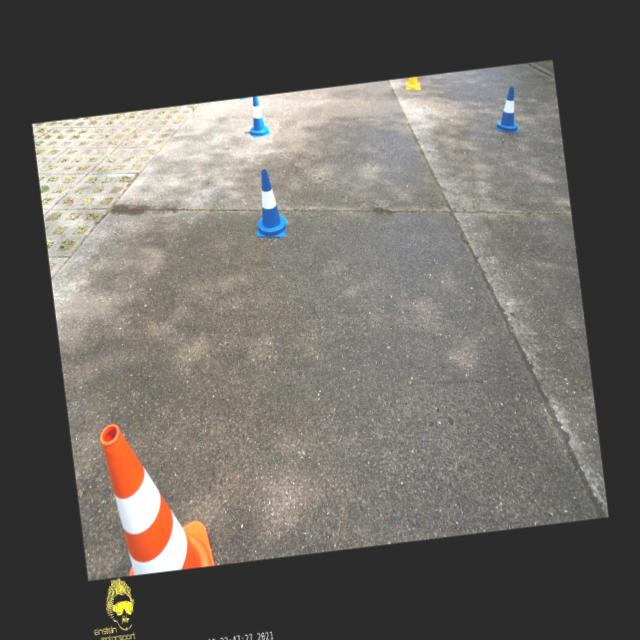blue_cone: (248, 167, 289, 240), (492, 86, 520, 136), (243, 94, 270, 138)
large_orange_cone: (99, 413, 214, 576)
yellow_cone: (403, 76, 421, 92)
